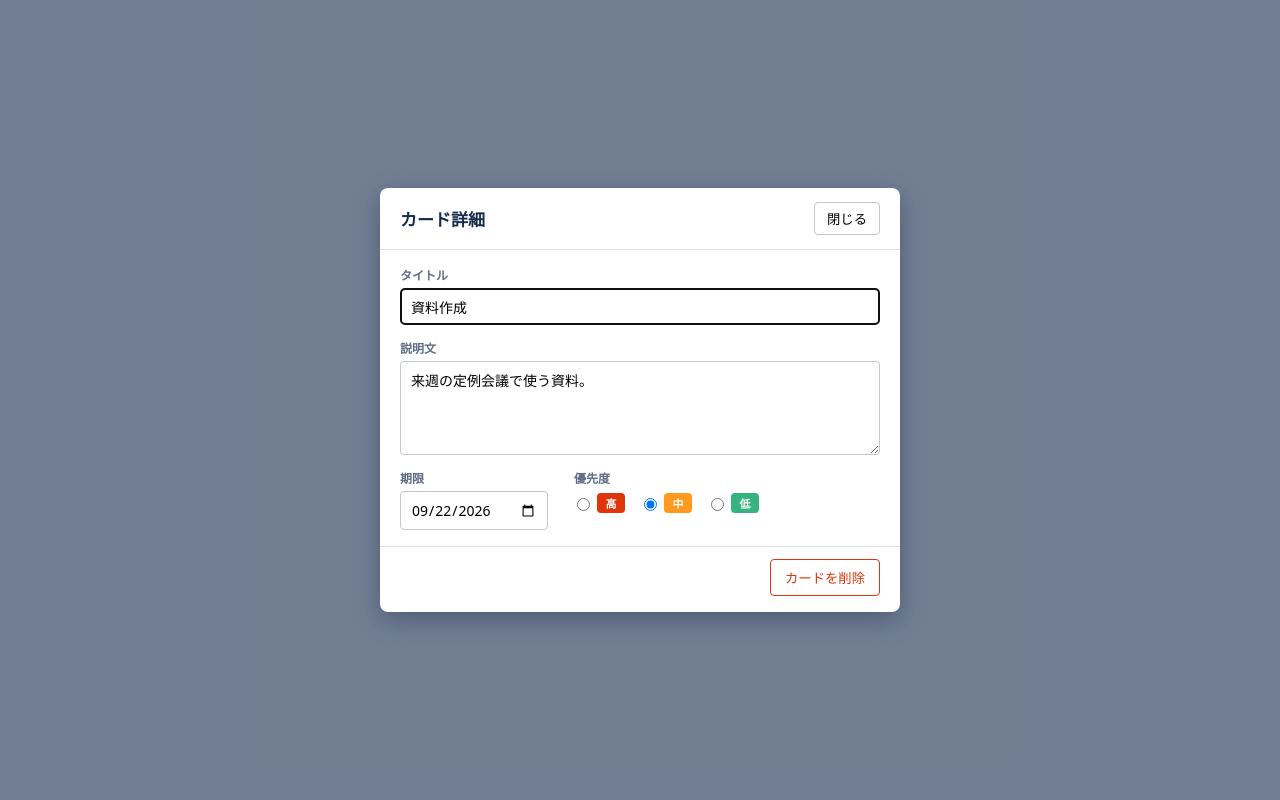
Test: CardDetail › 保存に失敗するとその項目の下に文言を出し、入力は残す
This screenshot has width=1280, height=800.
Replace the text in the field labelled "タイトル" with "失敗する": (640, 306) [400, 288, 880, 325]
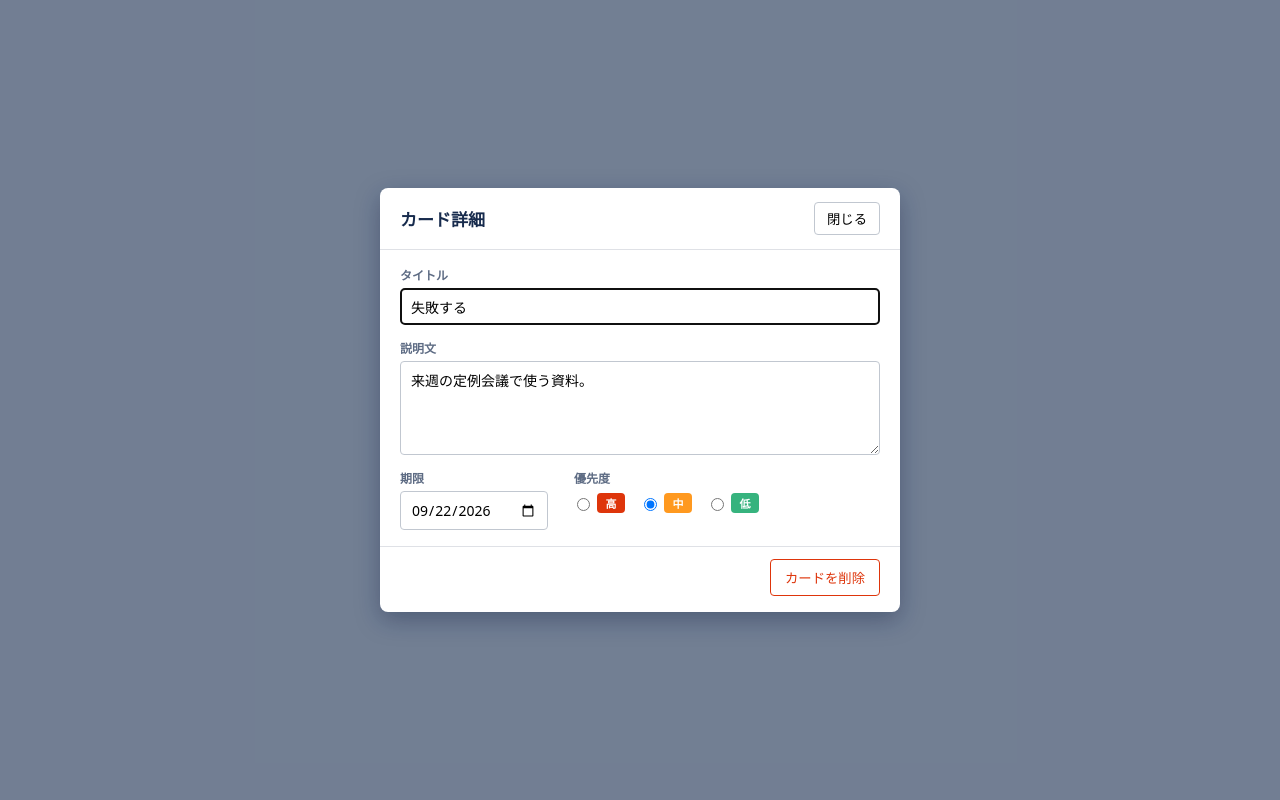
Press Tab
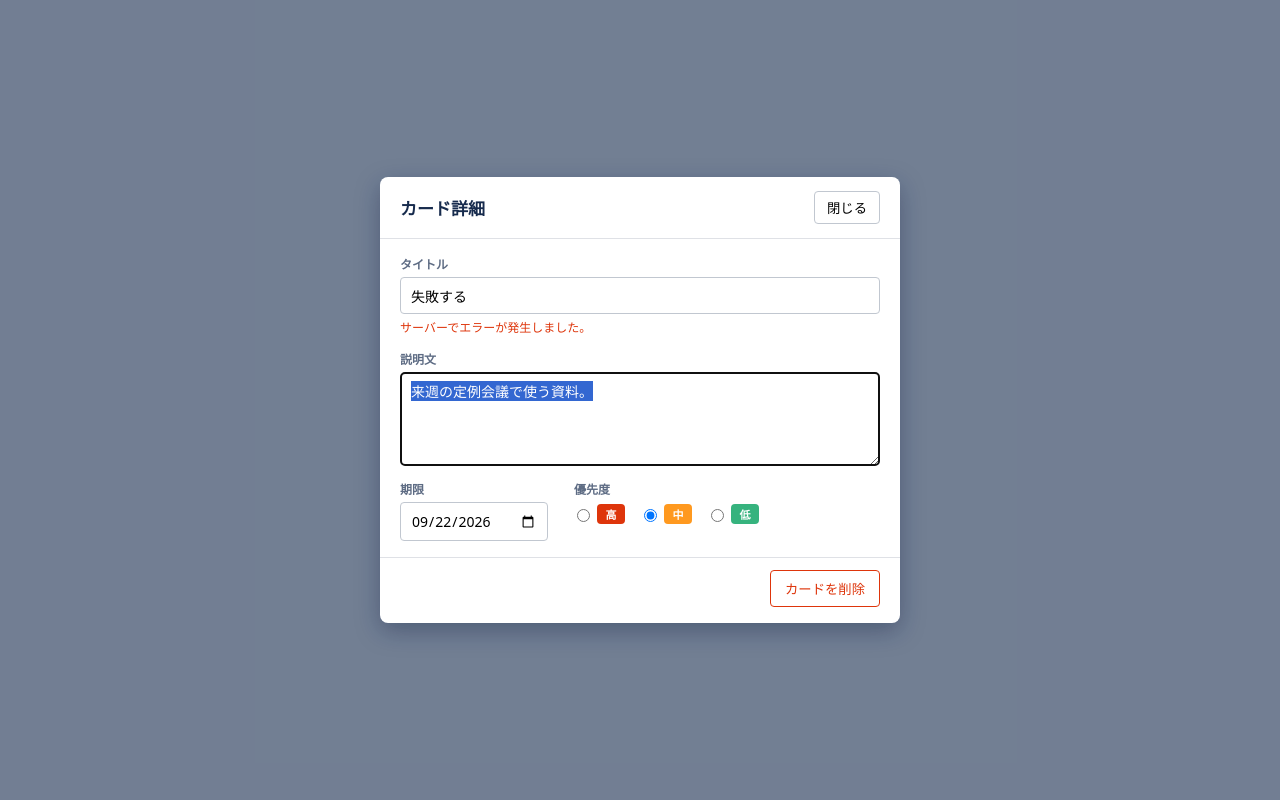
Expected: the message shows "サーバーでエラーが発生しました", [400, 319, 591, 336]
